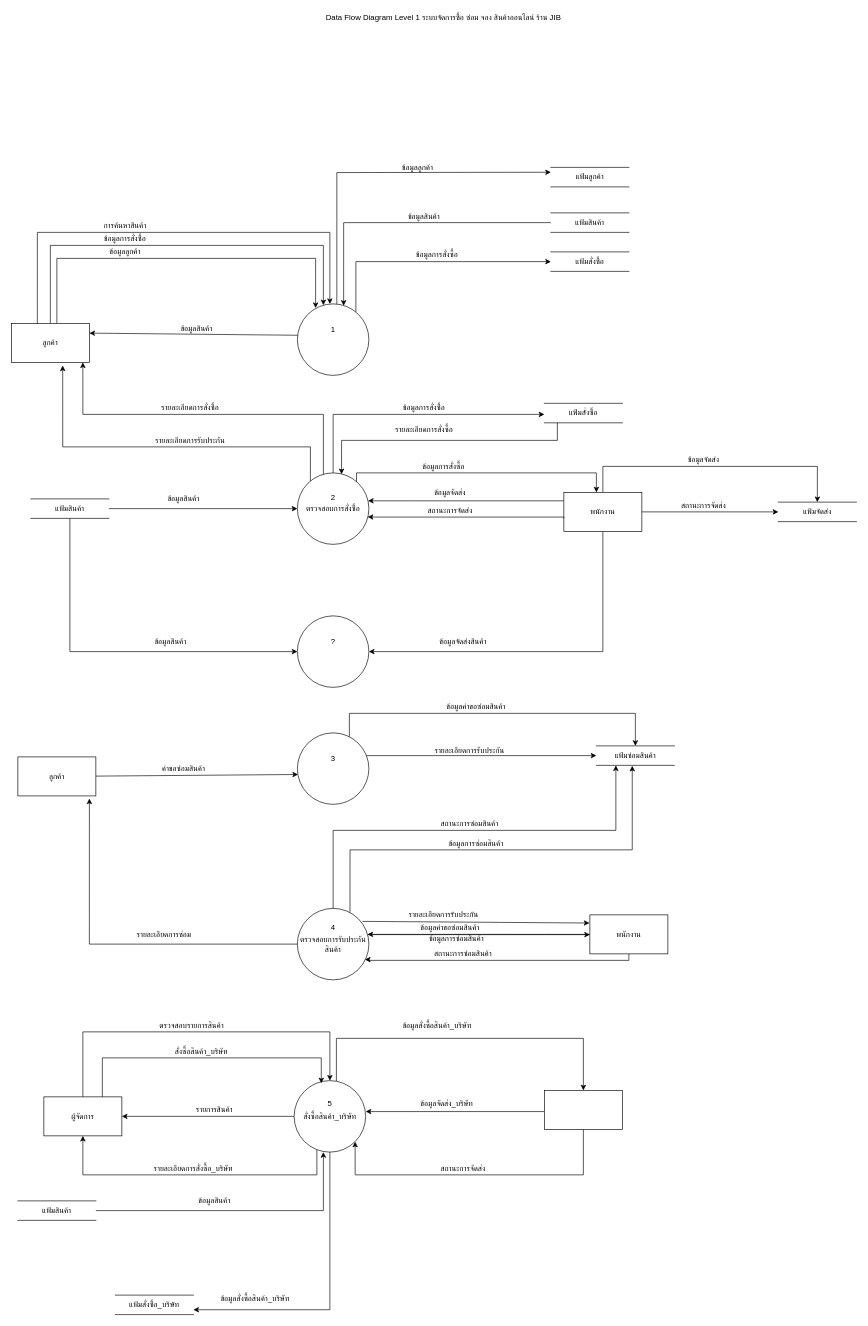
This 868x1326 diagram has some shape labels left out. Here are the shapes that lost their labels. From the top down, the box of each, then its label:
(297, 303, 369, 375): สั่งซื้อ
(297, 615, 369, 687): จัดการข้อมูลสินค้า
(297, 732, 369, 804): ส่งคำขอซ่อมสินค้า
(544, 1090, 622, 1129): บริษัท
